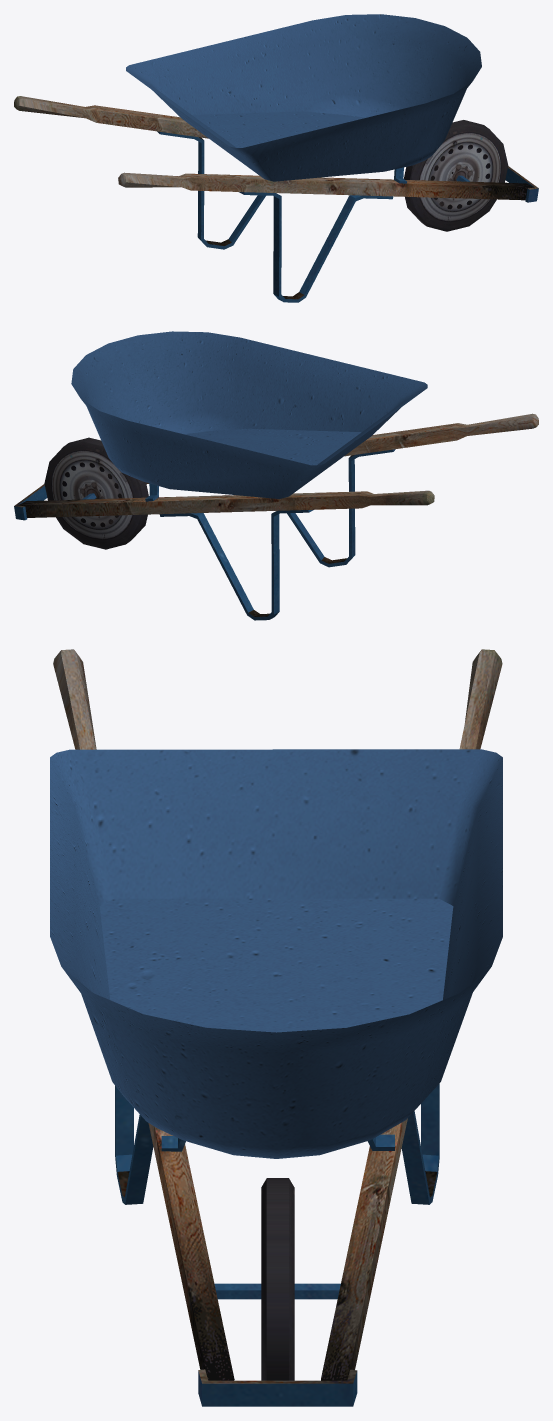
File: Wheebarrow02.FBX
3 renders of one model, top to bottom at view 1: azimuth 30°, elevation 25°; view 2: azimuth 150°, elevation 25°; view 3: azimuth 270°, elevation 25°, orthographic. The views are drawn at different scales.
Parts seen in each view (by area): view 1: Wheebarrow02; view 2: Wheebarrow02; view 3: Wheebarrow02.
Part boxes in pixels (x1,y1,x2,y2): Wheebarrow02: (14,14,538,302); Wheebarrow02: (14,331,538,620); Wheebarrow02: (50,649,502,1406).
Bounding box in the file's own units: 105 × 41.47 × 45.64.
